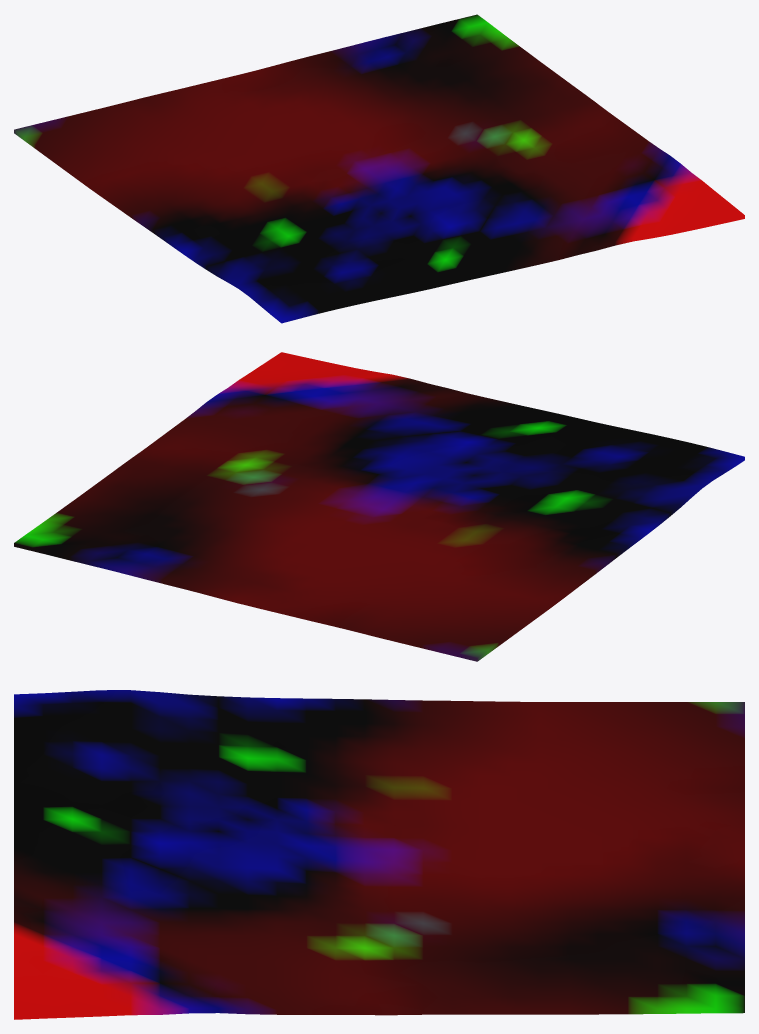
The model's file is coast_17_8.glb.
The picture shows the model from 3 angles, top to bottom: view 1: azimuth 30°, elevation 25°; view 2: azimuth 150°, elevation 25°; view 3: azimuth 270°, elevation 25°; orthographic projection. The views are drawn at different scales.
Visible parts, largest first — view 1: terrain; view 2: terrain; view 3: terrain.
Boxes of the visible parts, x1=… form: terrain: x1=14, y1=14, x2=744, y2=323; terrain: x1=14, y1=352, x2=744, y2=661; terrain: x1=14, y1=690, x2=744, y2=1019.
Bounding box in the file's own units: 200 × 6.3 × 200.
